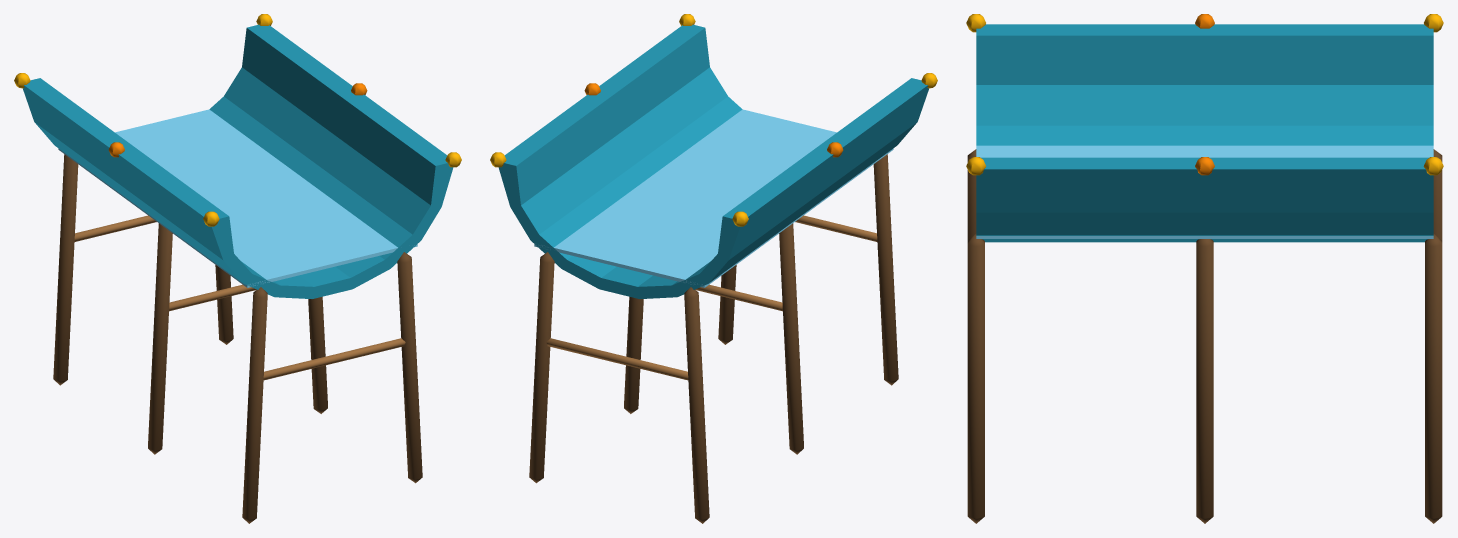
File: W5_Slide_Straight.fbx
3 renders of one model, left to right at view 1: azimuth 30°, elevation 25°; view 2: azimuth 150°, elevation 25°; view 3: azimuth 270°, elevation 25°, orthographic. The views are drawn at different scales.
Parts seen in each view (by area): view 1: W5_Slide_Straight; view 2: W5_Slide_Straight; view 3: W5_Slide_Straight.
Boxes of the visible parts, left/top/right/bottom form: W5_Slide_Straight: left=14, top=14, right=461, bottom=523; W5_Slide_Straight: left=490, top=14, right=937, bottom=523; W5_Slide_Straight: left=966, top=14, right=1443, bottom=523.
Bounding box in the file's own units: 7.78 × 9.39 × 10.44.
